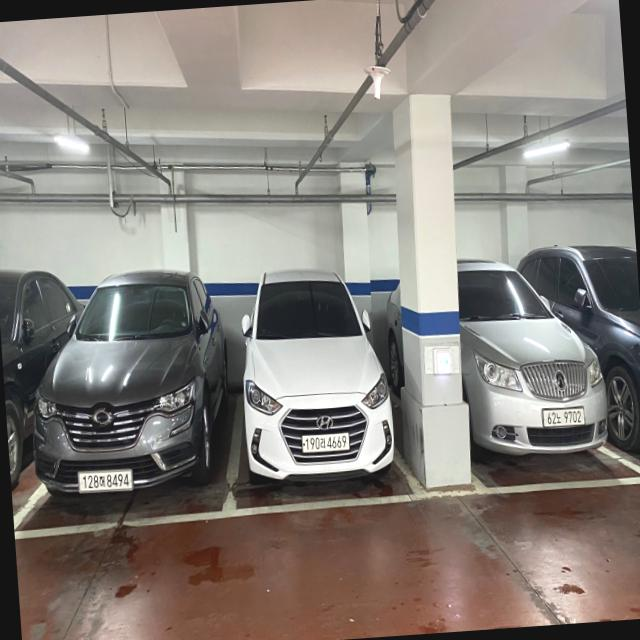car: (21, 264, 226, 503), (232, 262, 403, 484), (458, 246, 611, 460)
